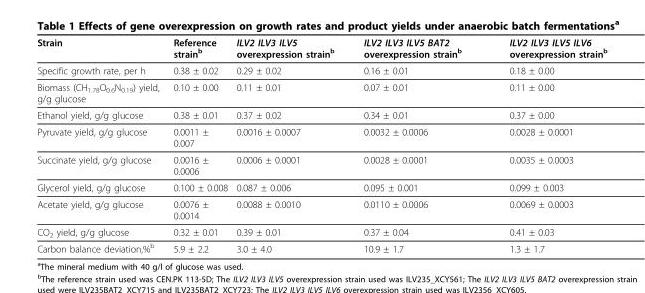table: (36, 36, 606, 254)
table column: (348, 36, 484, 254), (36, 36, 165, 254), (484, 36, 606, 254), (231, 36, 348, 254), (165, 36, 231, 254)
table column header: (36, 36, 606, 61)
table row: (36, 78, 606, 106), (36, 123, 606, 151), (36, 195, 606, 223), (36, 151, 606, 178), (36, 36, 606, 61), (36, 61, 606, 78), (36, 106, 606, 123), (36, 178, 606, 195), (36, 223, 606, 239), (36, 239, 606, 254)
